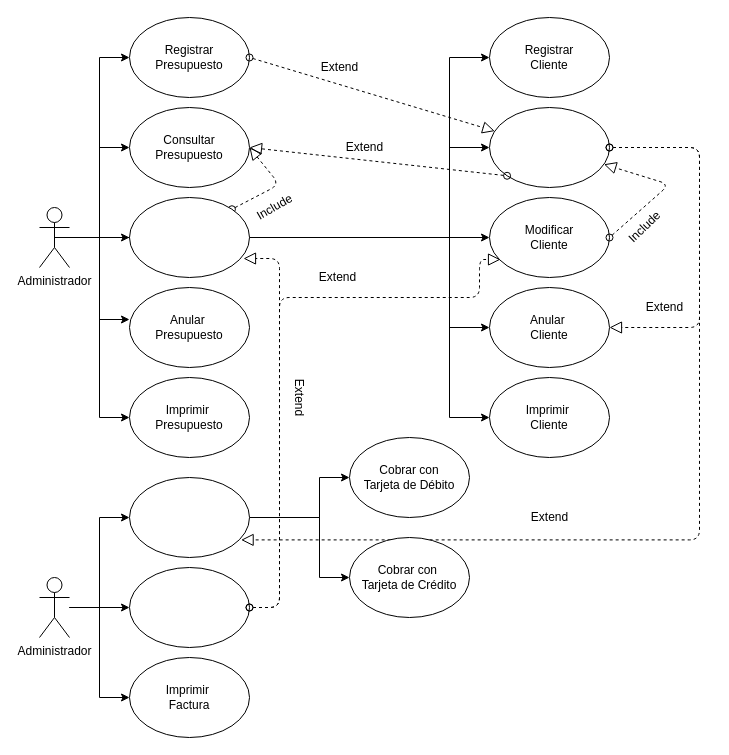
Image size: 729x755. Some labels were removed from this diagram. The shapes that lost their labels are listed below. From the top down, each one's centre as x and y in pixels, then its label:
the point at 549,147: Consultar Cliente
the point at 189,237: Modificar Presupuesto
the point at 189,517: Registrar Factura
the point at 189,607: Consultar Factura
